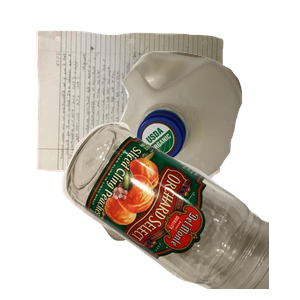glass: (60, 120, 300, 300)
paper: (32, 28, 249, 196)
plastic: (108, 49, 300, 226)
trash: (90, 129, 295, 300)
